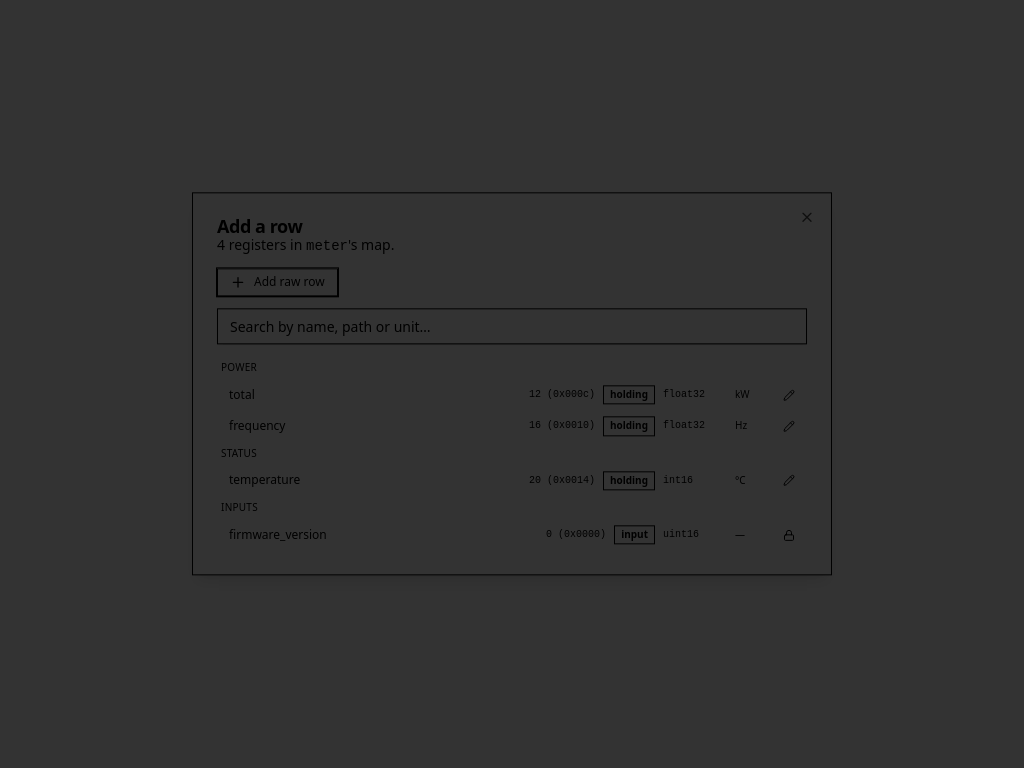
AddRegisterDialog › filters case-insensitively by name
This screenshot has width=1024, height=768.
Type "TEMP" into the field named "Search registers". click: (512, 326)
box: top-left (217, 308), bottom-right (807, 344)
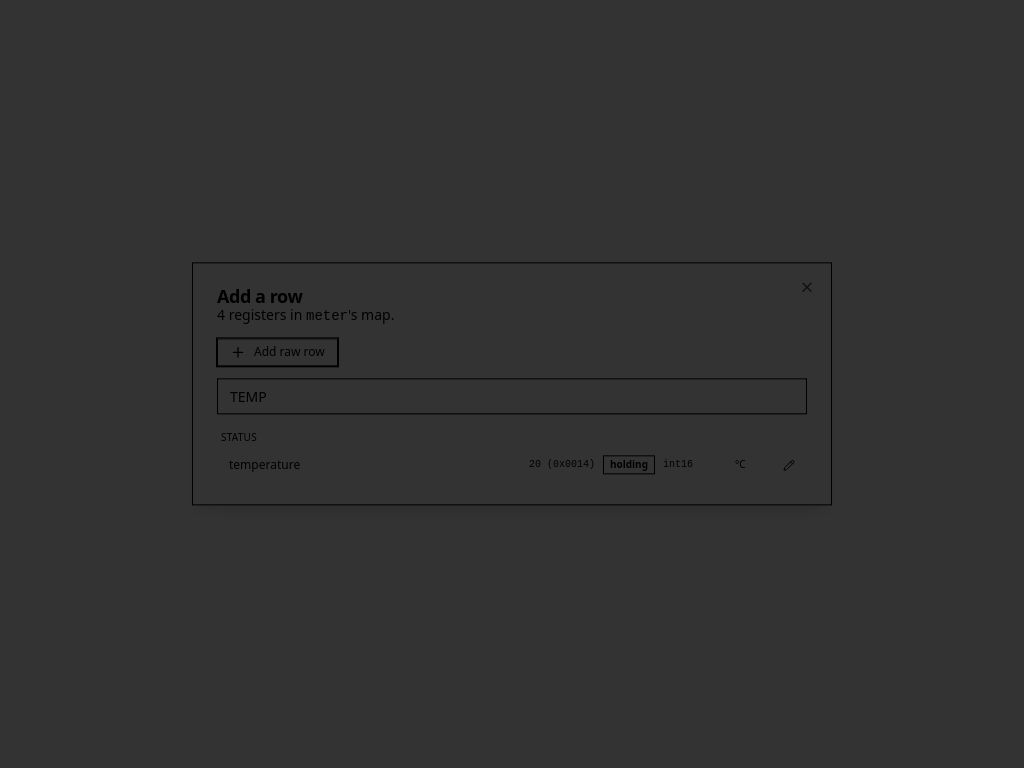
Expected: the text "temperature" is shown, top-left (229, 456), bottom-right (300, 473)
Result: the button "total" is gone
